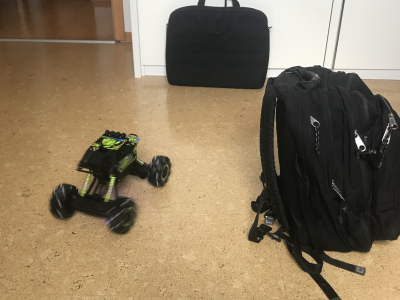remote control car: (49, 127, 172, 235)
